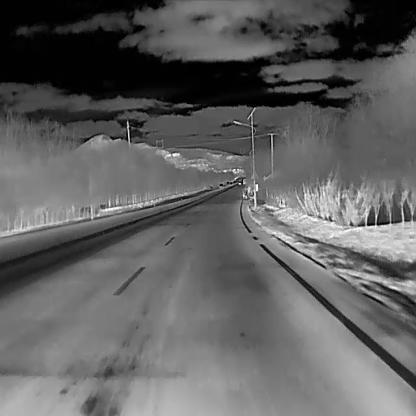car: (225, 180, 229, 186), (243, 178, 247, 184), (219, 183, 223, 188), (229, 181, 232, 186), (238, 182, 241, 185)
